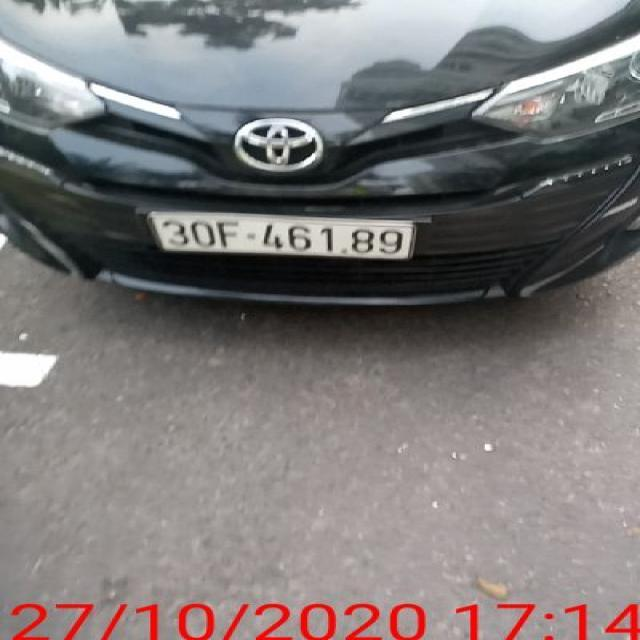bien_so_oto: (149, 210, 417, 260)
